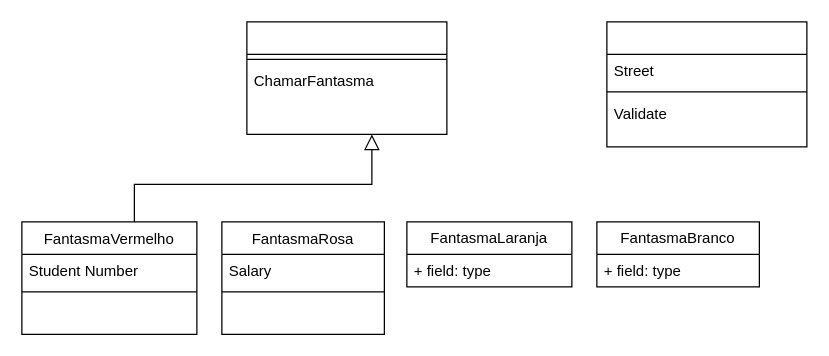
Image size: 829x356. Some labels were removed from this diagram. Each missing label, with the box of its shape:
Address: (606, 21, 807, 147)
Fantasmas: (246, 21, 447, 134)
